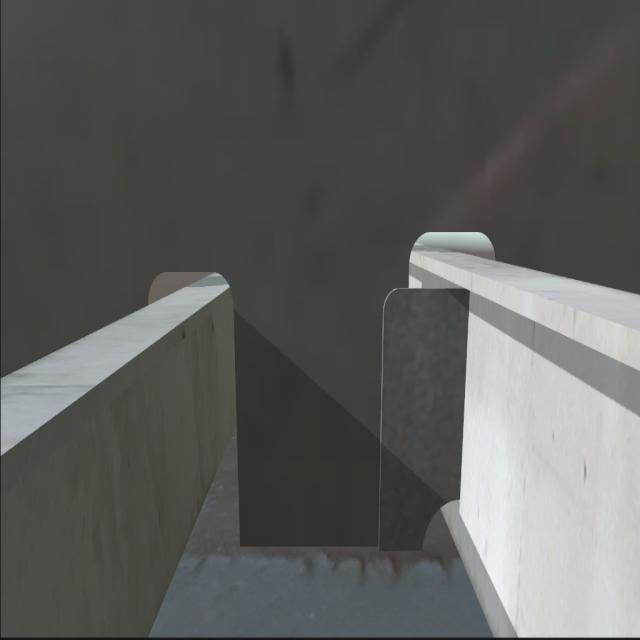fillet_hole: (422, 492, 482, 562)
fillet_yong_jeop_jang: (238, 533, 424, 559)
longi_yong_jeop_jang: (456, 284, 470, 504)
plate_CP05: (382, 284, 466, 552)
